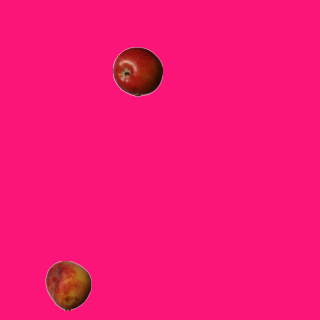Apple Braeburn: (112, 46, 162, 96)
Peach: (43, 260, 93, 310)
